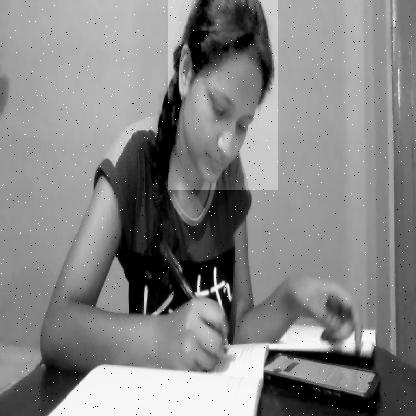Distracted: (168, 0, 278, 190)
